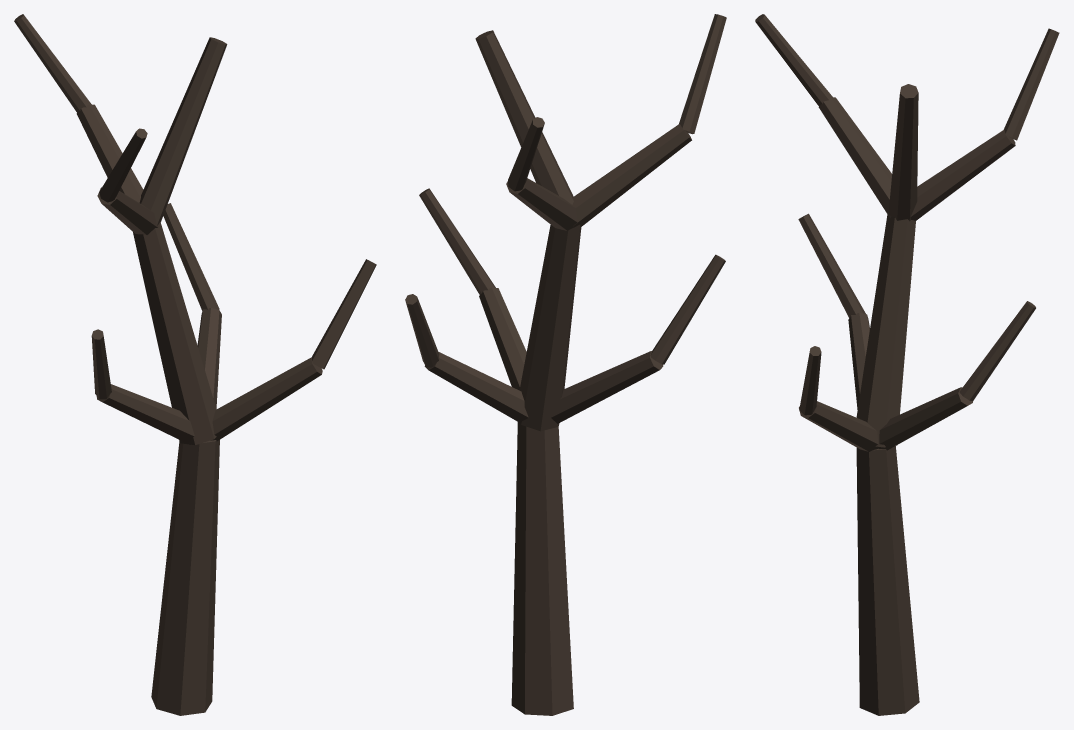
File: dead_tree_b.glb
The picture shows the model from 3 angles, left to right: view 1: azimuth 30°, elevation 25°; view 2: azimuth 150°, elevation 25°; view 3: azimuth 270°, elevation 25°; orthographic projection. The views are drawn at different scales.
Parts seen in each view (by area): view 1: dead_tree_b; view 2: dead_tree_b; view 3: dead_tree_b.
Part boxes in pixels (box(x1,y1,x2,y2)): dead_tree_b: box(14, 14, 376, 715); dead_tree_b: box(405, 14, 726, 715); dead_tree_b: box(755, 14, 1059, 715).
Size of the model in its own units: 2.45 by 5.25 by 2.26.
